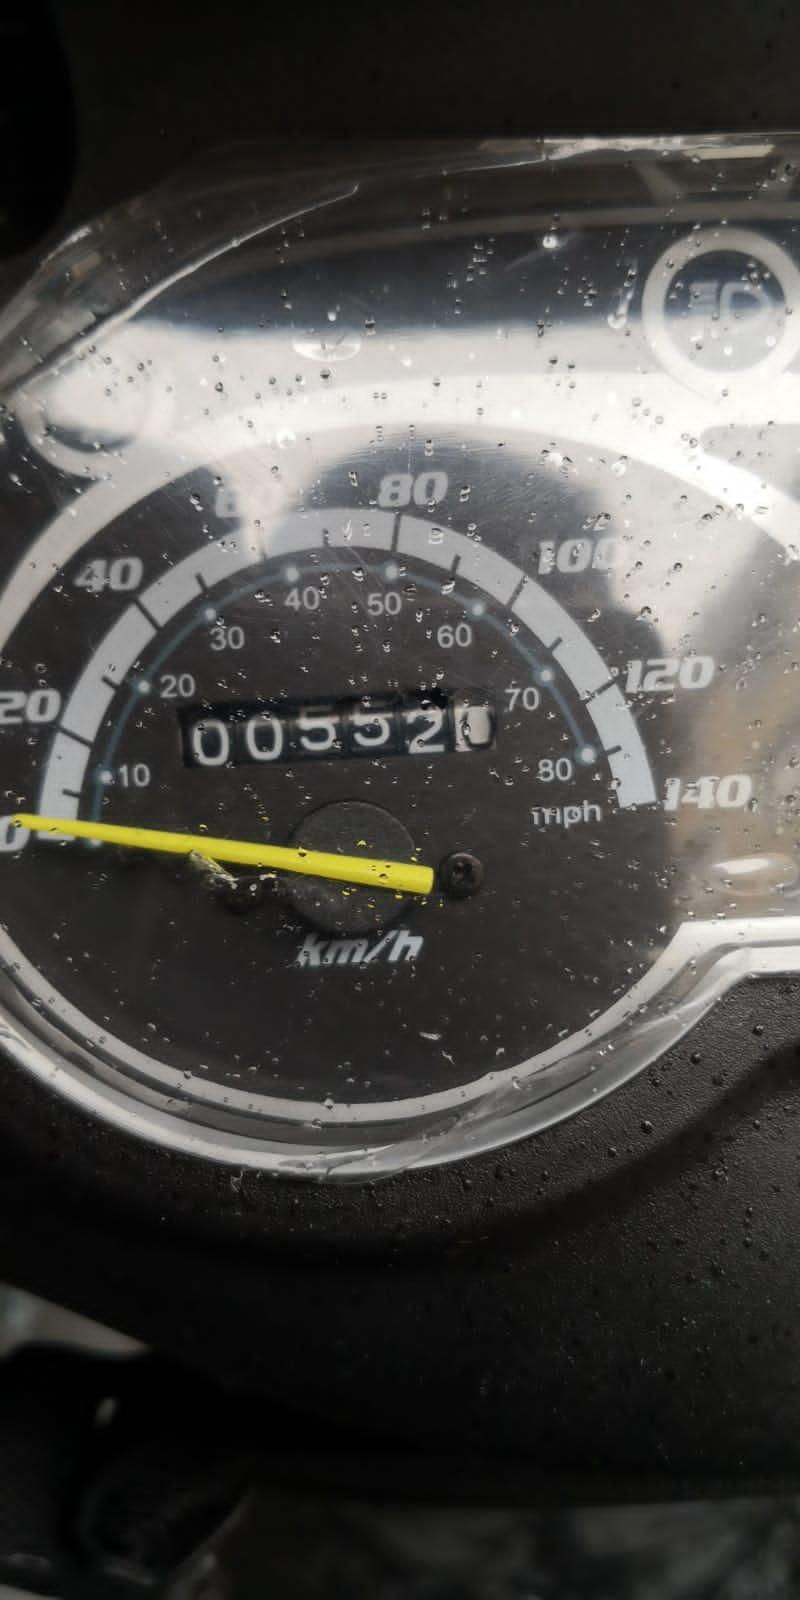0: (245, 710, 284, 762), (191, 716, 230, 767), (461, 701, 497, 751)
2: (406, 703, 445, 754)
5: (351, 699, 391, 747), (297, 703, 336, 751)
odometer: (176, 681, 501, 771)
